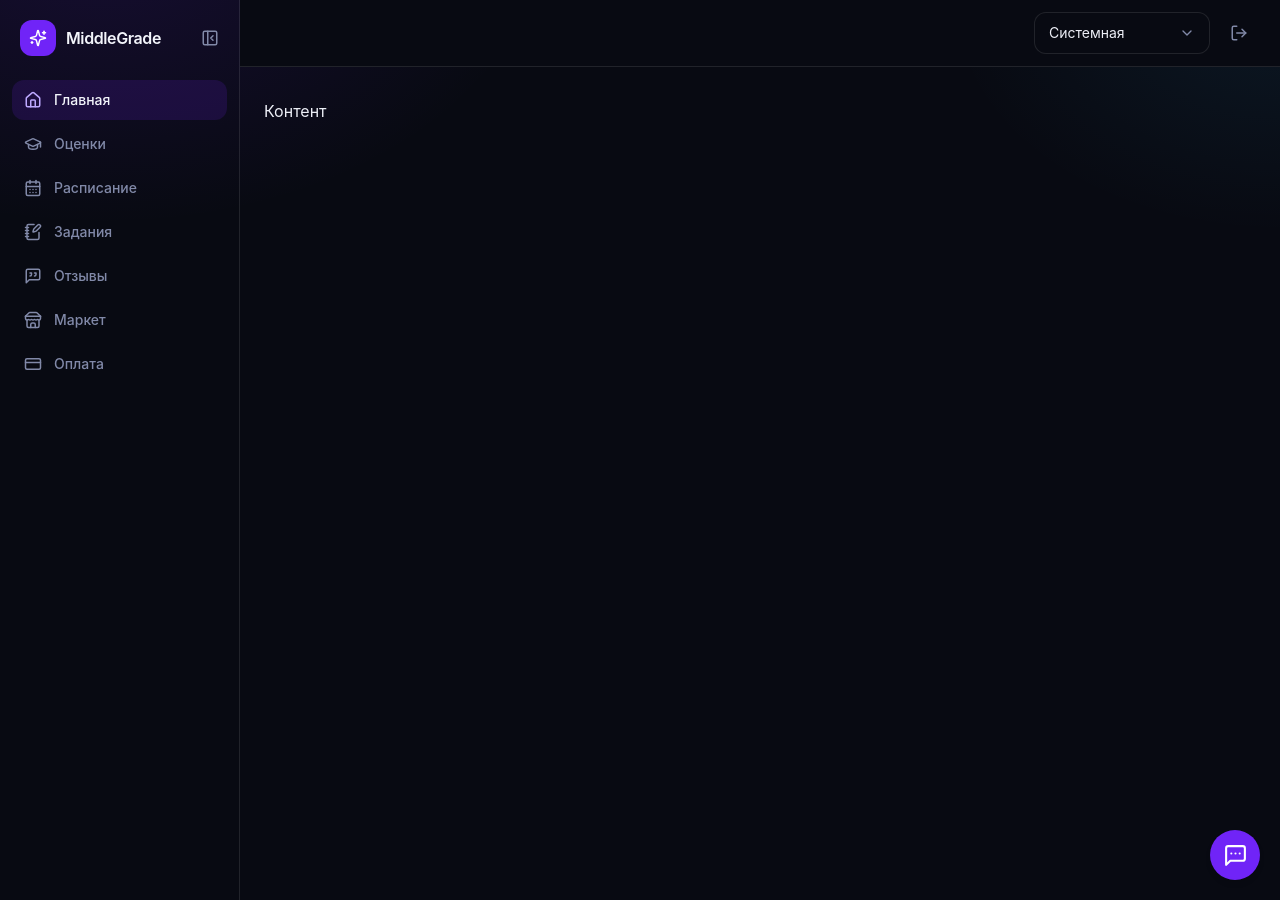
Scenario: AppLayout › collapses the desktop sidebar to icons
Click the button named "Свернуть меню": [210, 38] box [193,21,227,55]
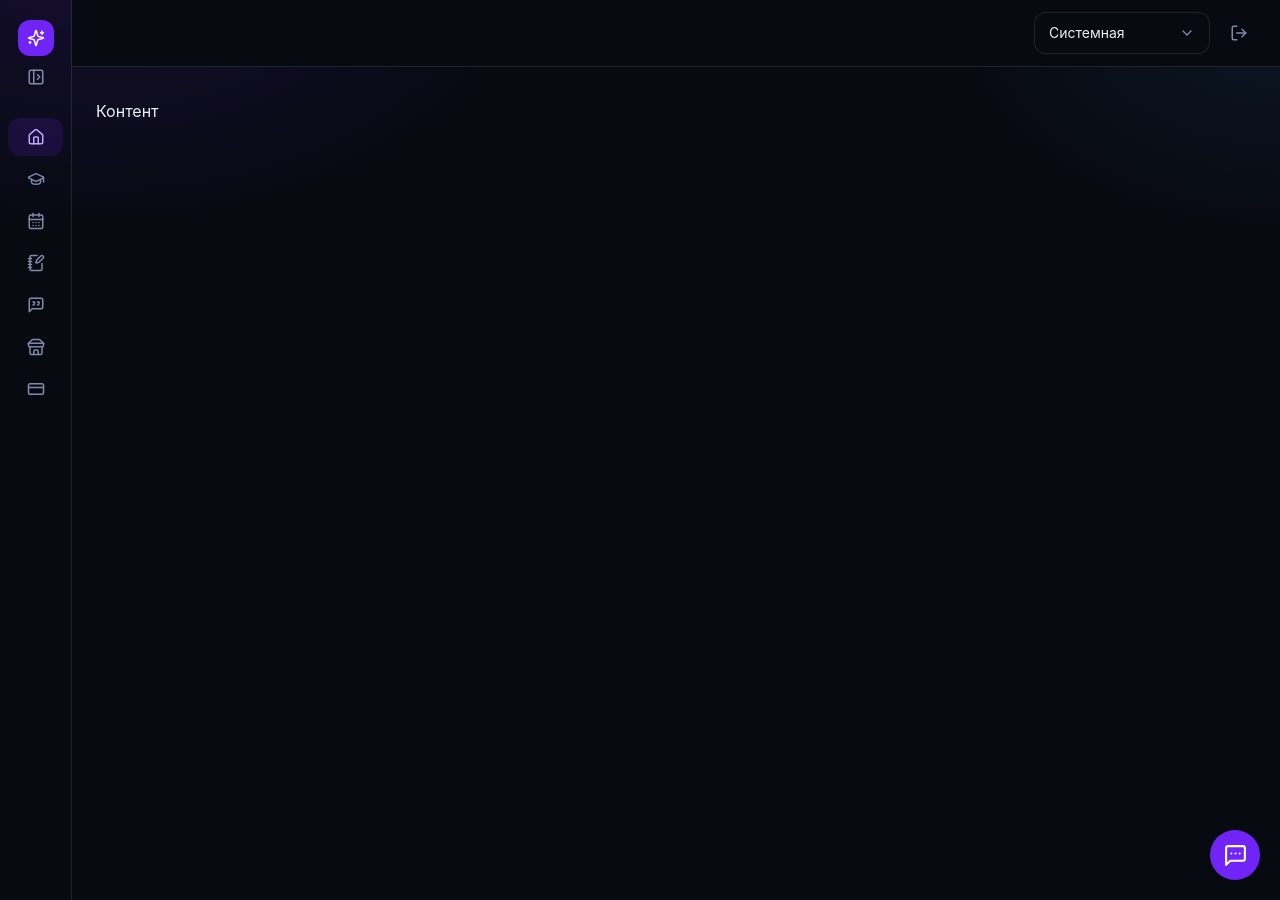
expect the button named "Развернуть меню" is shown: met, box [18,60,52,94]
